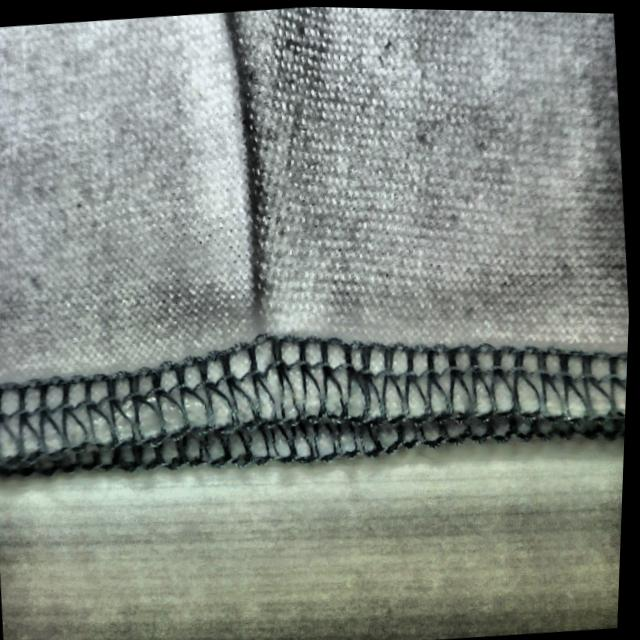seam: (194, 115, 351, 425)
